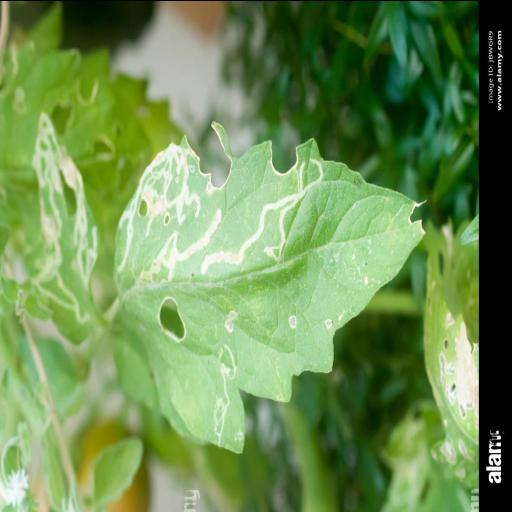disease_tomato: (112, 118, 428, 452), (22, 110, 102, 354)
